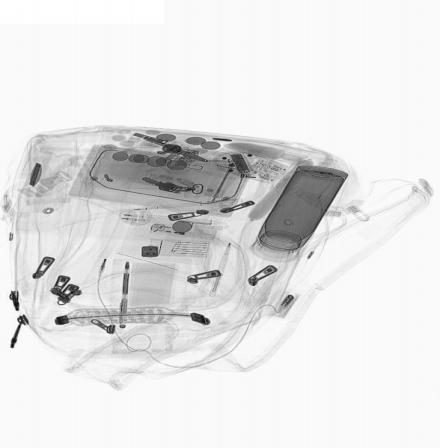Lighter: (150, 223, 216, 241)
